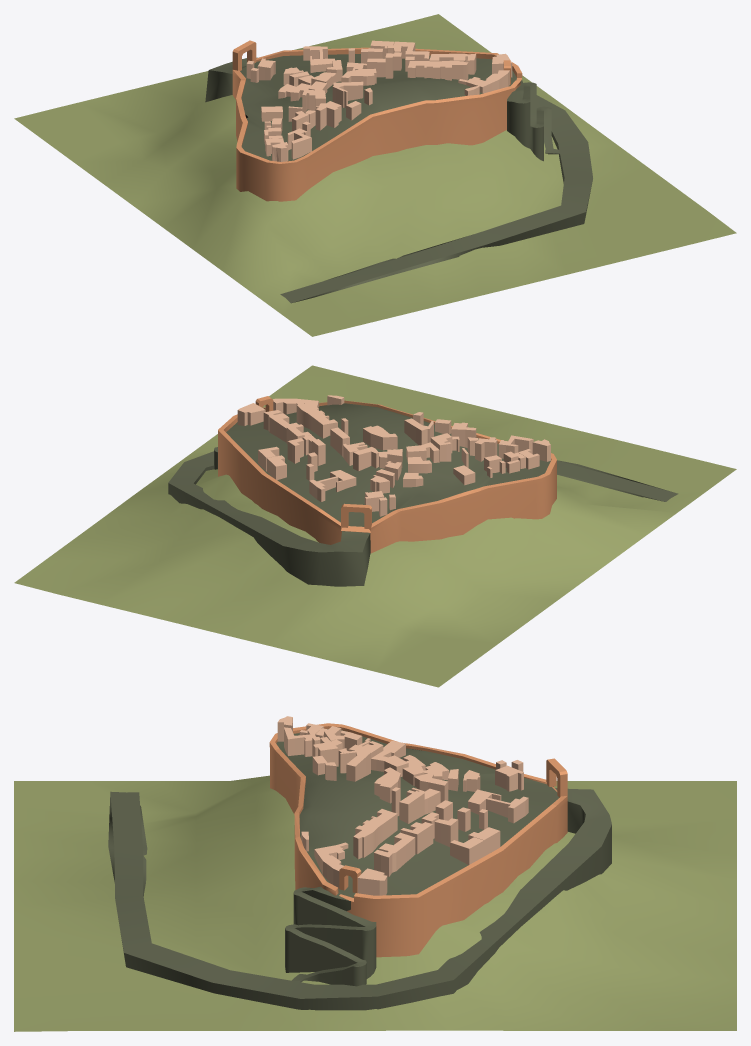
File: ville_v13.fbx
The picture shows the model from 3 angles, top to bottom: view 1: azimuth 30°, elevation 25°; view 2: azimuth 150°, elevation 25°; view 3: azimuth 270°, elevation 25°; orthographic projection. The views are drawn at different scales.
Parts seen in each view (by area): view 1: Ville; view 2: Ville; view 3: Ville.
Boxes of the visible parts, x1=… form: Ville: x1=14, y1=14, x2=736, y2=336; Ville: x1=14, y1=365, x2=736, y2=687; Ville: x1=14, y1=716, x2=736, y2=1031.
Size of the model in its own units: 986 by 242 by 1200.
